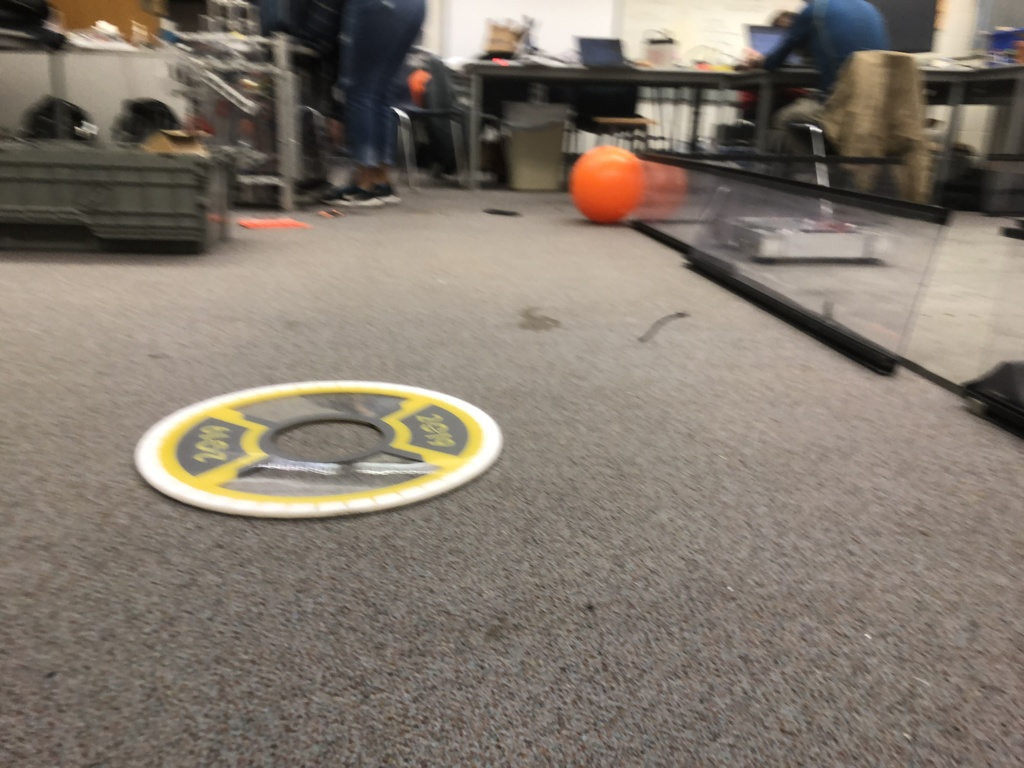hatch_panel: (116, 368, 530, 526)
